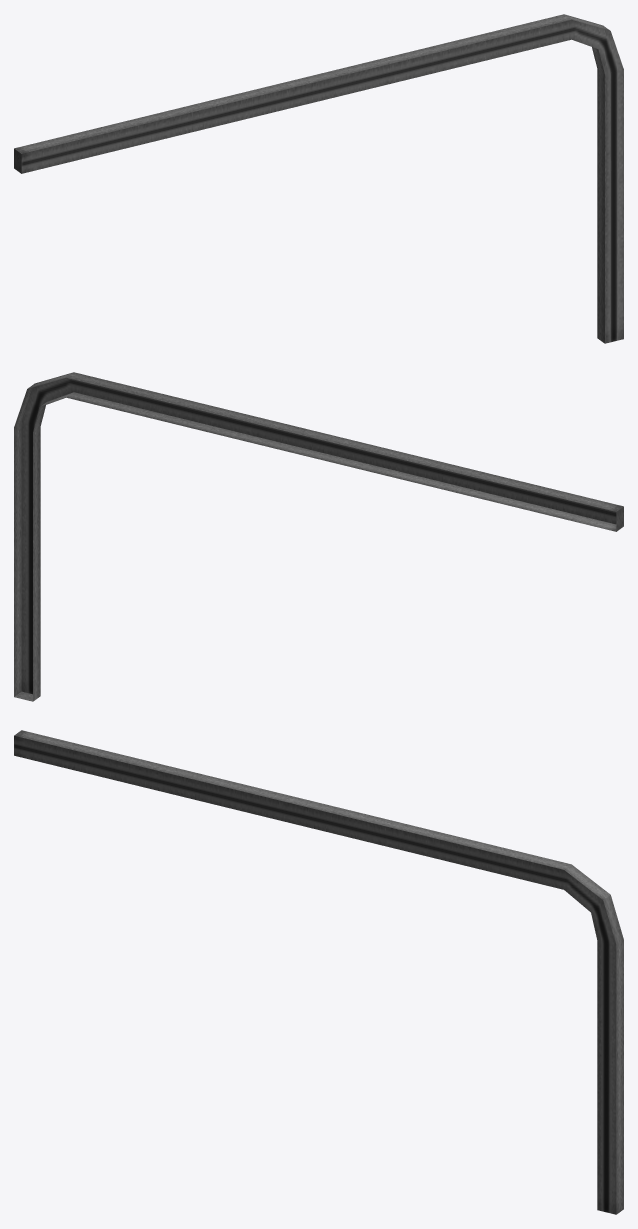
Rendered from Rail.FBX.
3 views of the same model, one above another, from view 1: azimuth 30°, elevation 25°; view 2: azimuth 150°, elevation 25°; view 3: azimuth 330°, elevation 25° (orthographic).
Visible parts, largest first — view 1: Rail001; view 2: Rail001; view 3: Rail001.
Part boxes in pixels (x1,y1,x2,y2): Rail001: [14, 14, 623, 343]; Rail001: [14, 372, 623, 701]; Rail001: [14, 730, 623, 1214].
Size of the model in its own units: 327 by 172 by 7.12.
